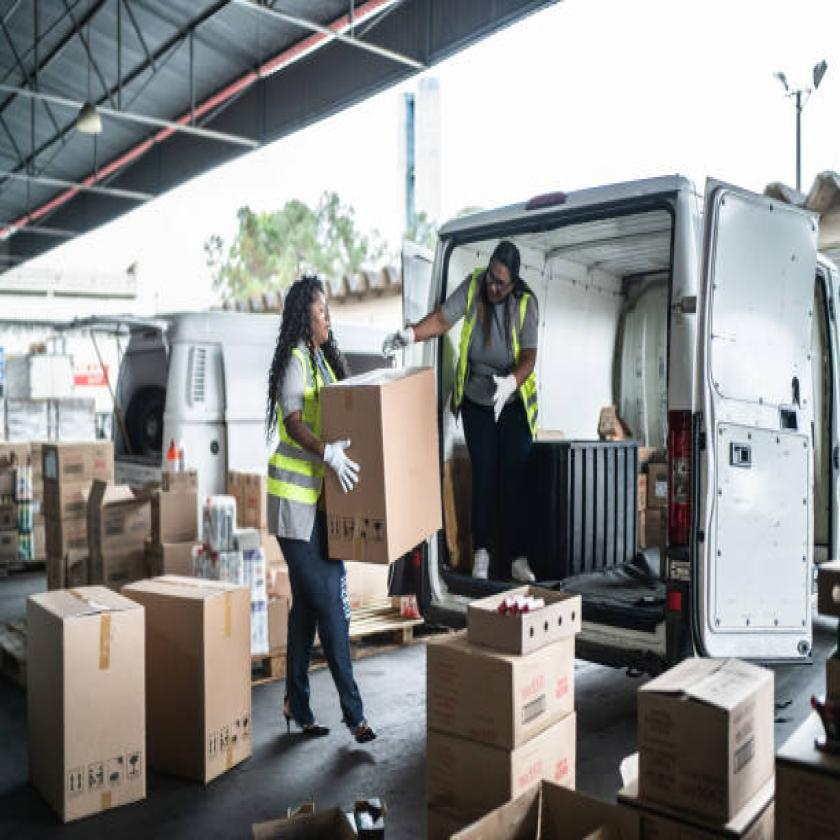Sin_casco: (275, 255, 339, 358), (474, 225, 528, 321)
